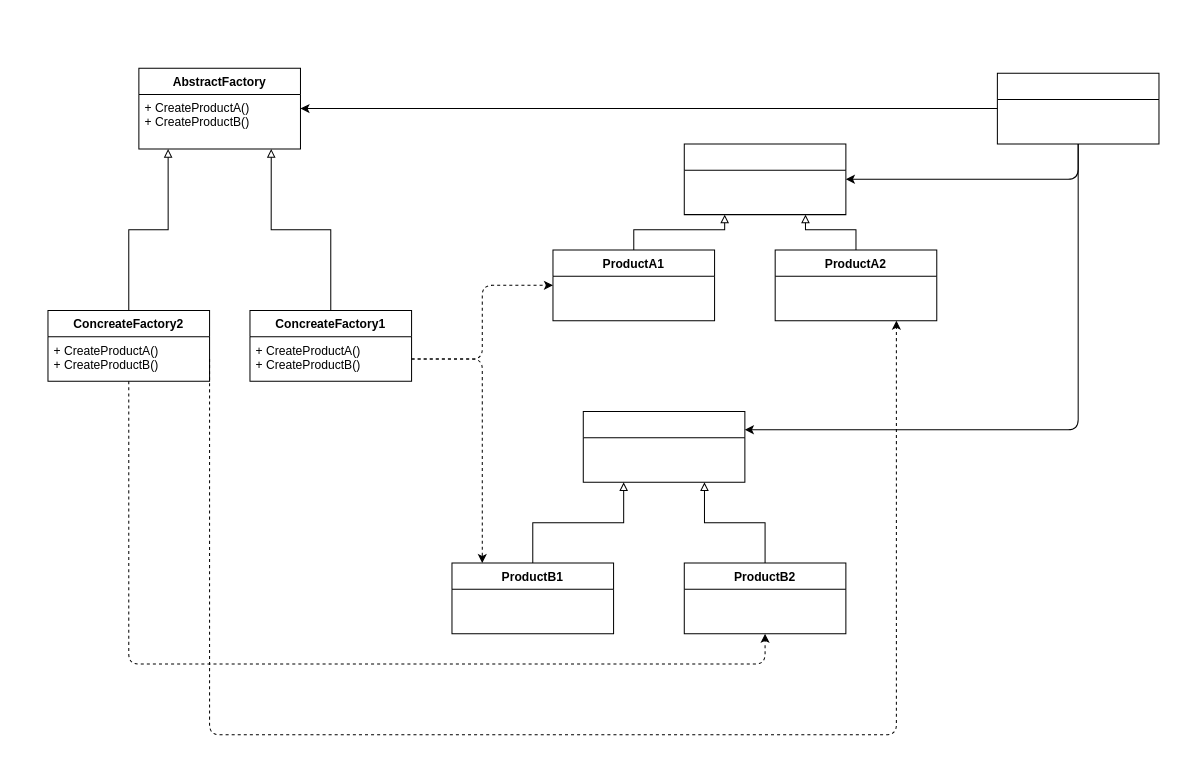
Image size: 1196x782. Some labels were removed from this diagram. The centre of each missing label's shape, as x and y in pixels:
"AbstractProductA" goes at point (764, 179).
"AbstractProductB" goes at point (663, 446).
"Client" goes at point (1077, 108).
